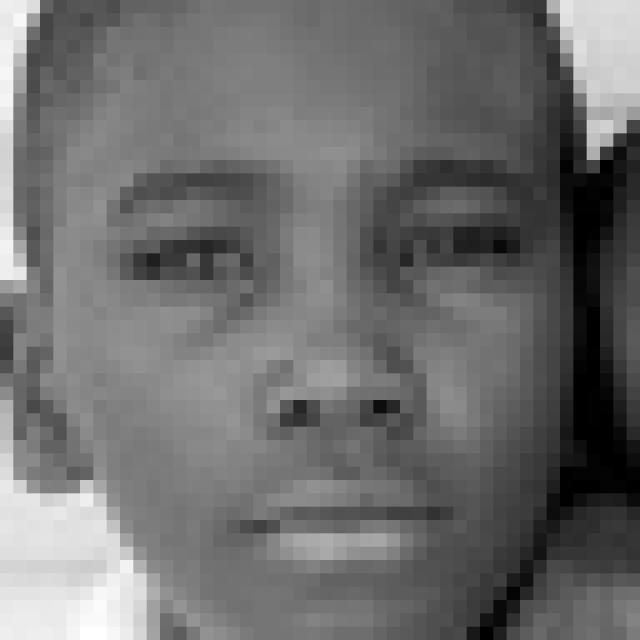neutral: (99, 152, 546, 588)
